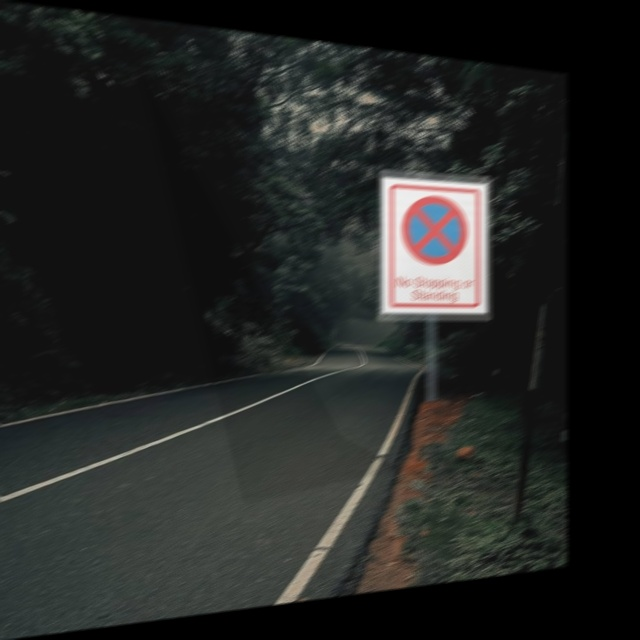No_Stopping_or_Standing: (394, 188, 474, 274)
